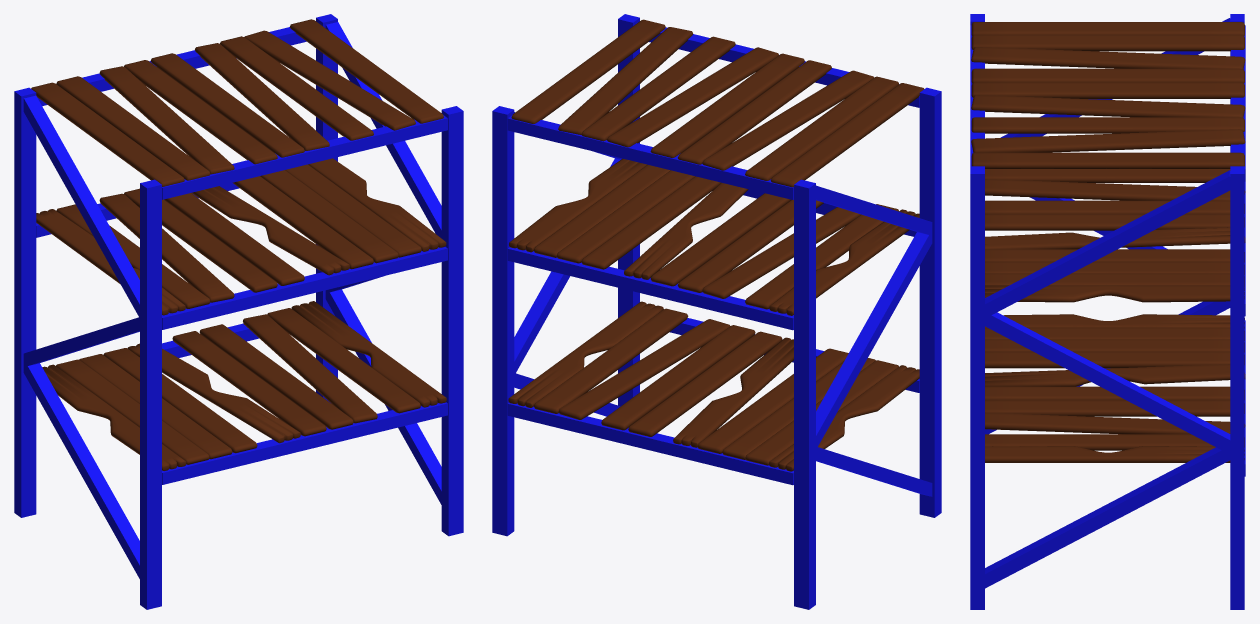
Rendered from Shelves_v1.FBX.
The picture shows the model from 3 angles, left to right: view 1: azimuth 30°, elevation 25°; view 2: azimuth 150°, elevation 25°; view 3: azimuth 270°, elevation 25°; orthographic projection. The views are drawn at different scales.
Visible parts, largest first — view 1: Box021; view 2: Box021; view 3: Box021.
Part boxes in pixels (x1,y1,x2,y2): Box021: [14, 14, 463, 609]; Box021: [492, 14, 941, 609]; Box021: [970, 14, 1245, 609].
Size of the model in its own units: 232 by 295 by 168.
